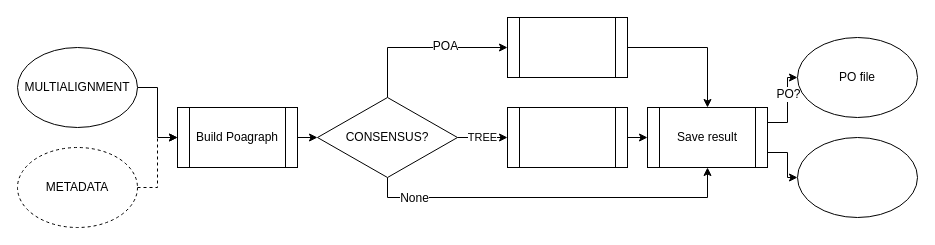
This 935x245 diagram has some shape labels left out. The centre of each missing label's shape, as x and y in pixels:
Generate consensuses tree using poa: the point at 567,47
Generate consensuses tree using Tree Algorithm: the point at 567,137
JSON file: the point at 857,177
